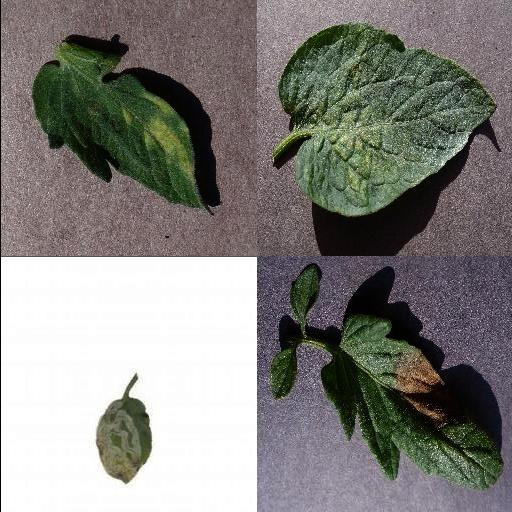Late Blight: (320, 316, 504, 490)
Leaf Miner: (92, 395, 149, 483)
Leaf Mold: (31, 42, 203, 208)
Spider Mites: (278, 22, 498, 218)
